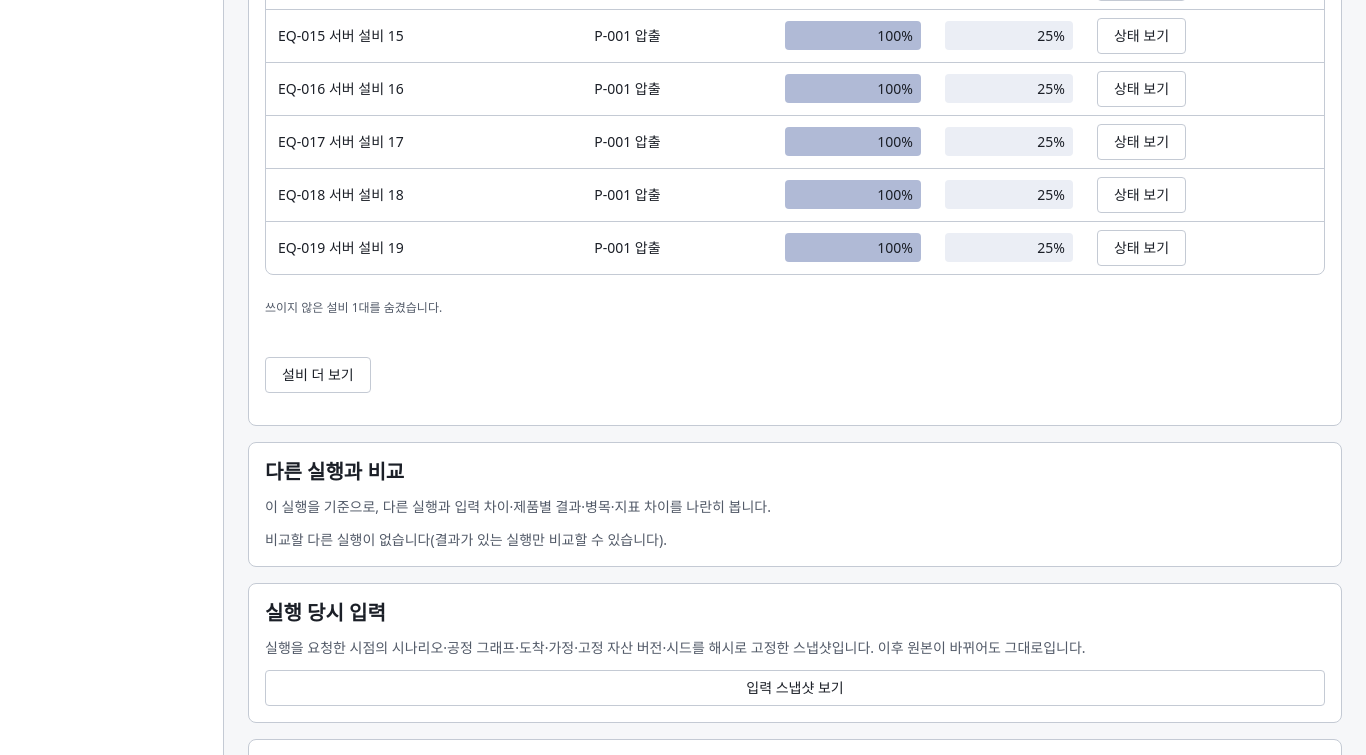
Test: 설비 타임라인 › 설비는 20대씩 받고 '설비 더 보기'로 이어 받는다
The width and height of the screenshot is (1366, 755).
(page scrolled)
What coordinates should you click on to do the following:
click the button "설비 더 보기"
I would click on:
 (318, 375)
Its box is x1=265 y1=357 x2=371 y2=393.
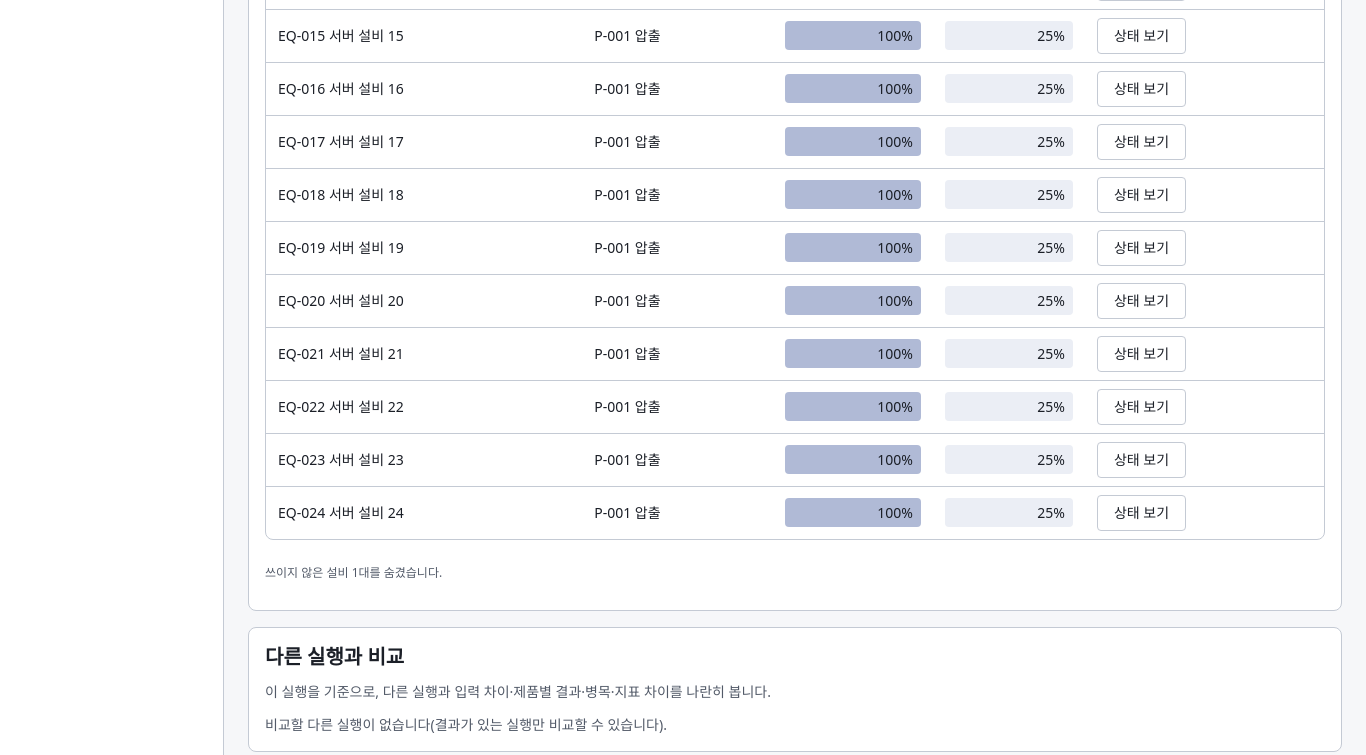
Check: the text "EQ-024 서버 설비 24" is shown, box x1=278 y1=503 x2=404 y2=522
